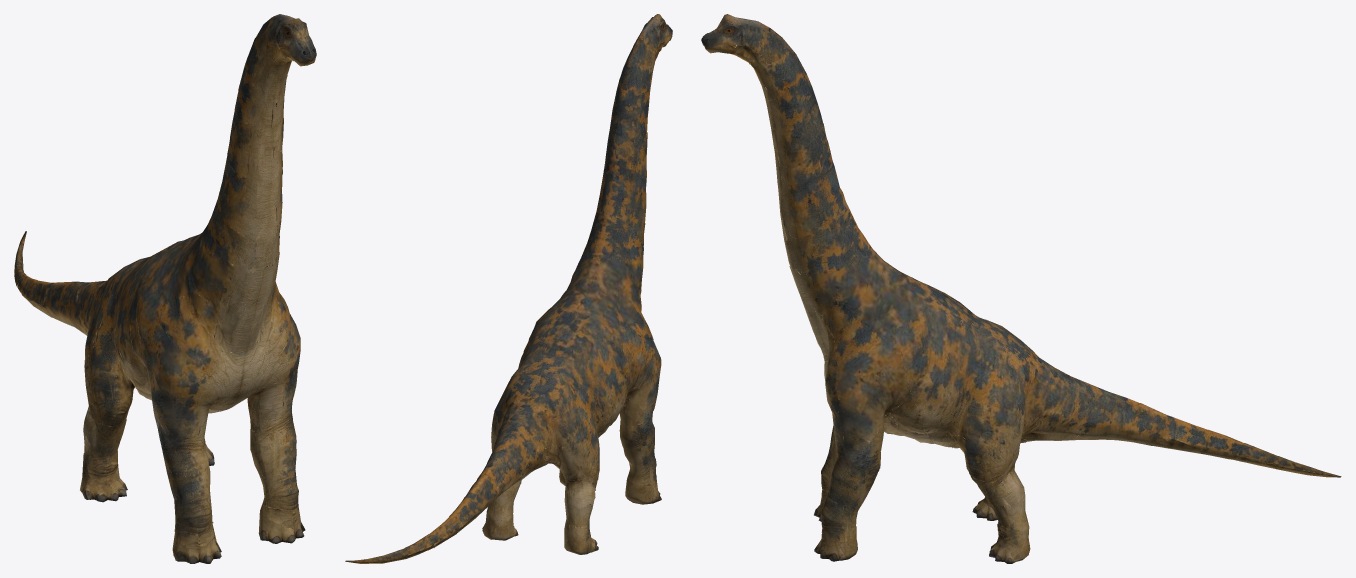
Rendered from brachiosaurus.glb.
3 views of the same model, side by side, from view 1: azimuth 30°, elevation 25°; view 2: azimuth 150°, elevation 25°; view 3: azimuth 270°, elevation 25° (orthographic). The views are drawn at different scales.
Visible parts, largest first — view 1: brachiosaurus; view 2: brachiosaurus; view 3: brachiosaurus.
Boxes of the visible parts, bbox=[...] form: brachiosaurus: bbox=[14, 14, 316, 563]; brachiosaurus: bbox=[345, 14, 672, 563]; brachiosaurus: bbox=[701, 14, 1341, 563].
Size of the model in its own units: 3.1 by 11.98 by 13.4.
1 material, 1 textured.
